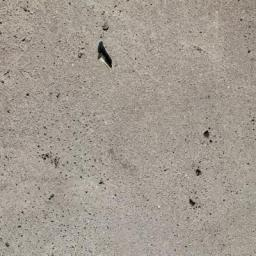FOD: (94, 42, 119, 73)
